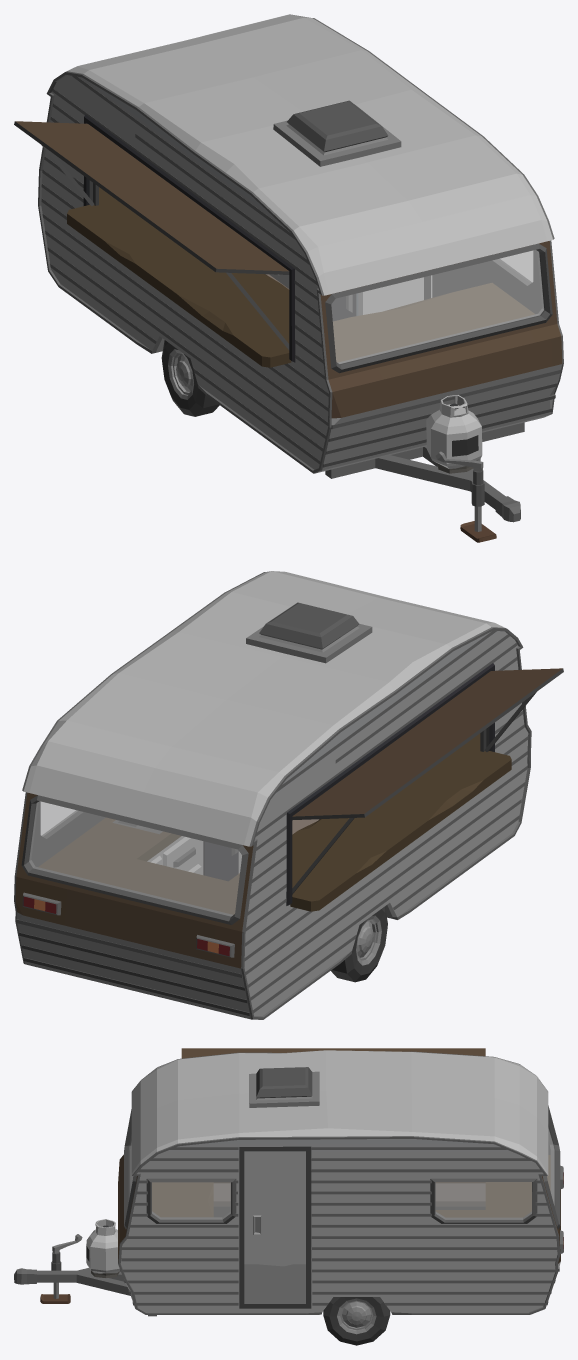
Rendered from food-trailer.glb.
3 renders of one model, top to bottom at view 1: azimuth 30°, elevation 25°; view 2: azimuth 150°, elevation 25°; view 3: azimuth 270°, elevation 25°, orthographic. The views are drawn at different scales.
Parts seen in each view (by area): view 1: food-trailer; view 2: food-trailer; view 3: food-trailer.
Boxes of the visible parts, x1,y1,x2,y2 form: food-trailer: [14, 14, 563, 542]; food-trailer: [14, 571, 563, 1019]; food-trailer: [14, 1048, 563, 1345].
Bounding box in the file's own units: 3.18 × 3.02 × 6.53.
2 materials, 1 textured.
